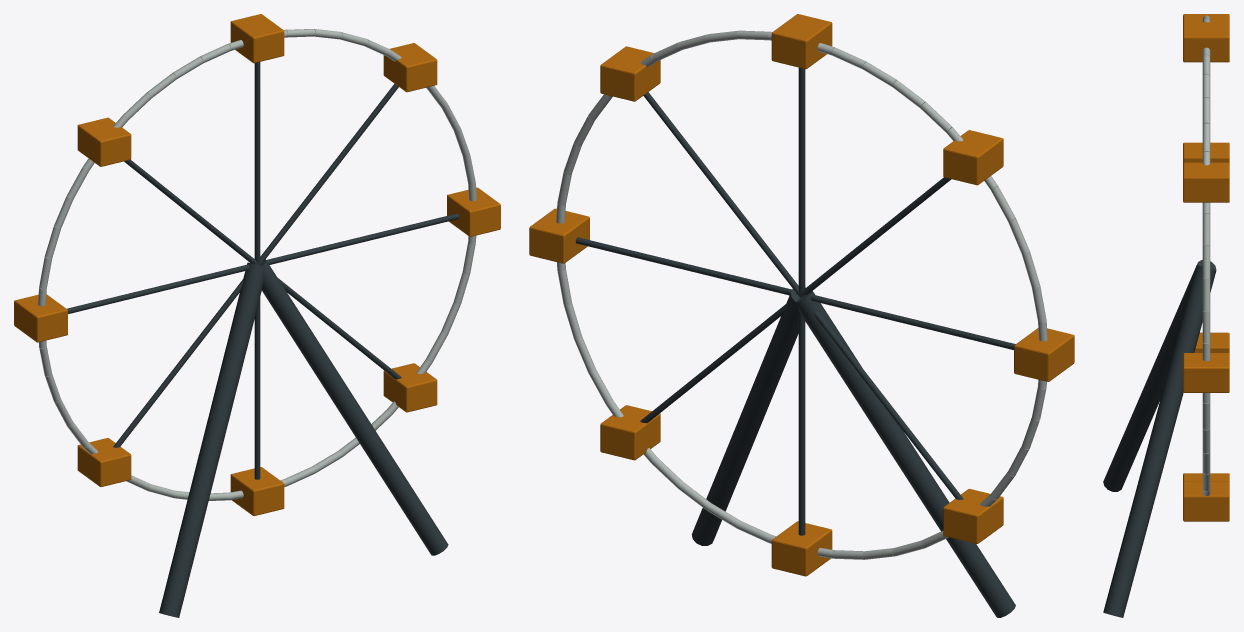
Rendered from FerrisWheel.fbx.
3 views of the same model, side by side, from view 1: azimuth 30°, elevation 25°; view 2: azimuth 150°, elevation 25°; view 3: azimuth 270°, elevation 25° (orthographic). The views are drawn at different scales.
Visible parts, largest first — view 1: FerrisWheel; view 2: FerrisWheel; view 3: FerrisWheel.
Part boxes in pixels (x1,y1,x2,y2): FerrisWheel: [14, 14, 500, 617]; FerrisWheel: [529, 14, 1074, 617]; FerrisWheel: [1103, 14, 1229, 617].
Size of the model in its own units: 1030 by 244 by 1118.
